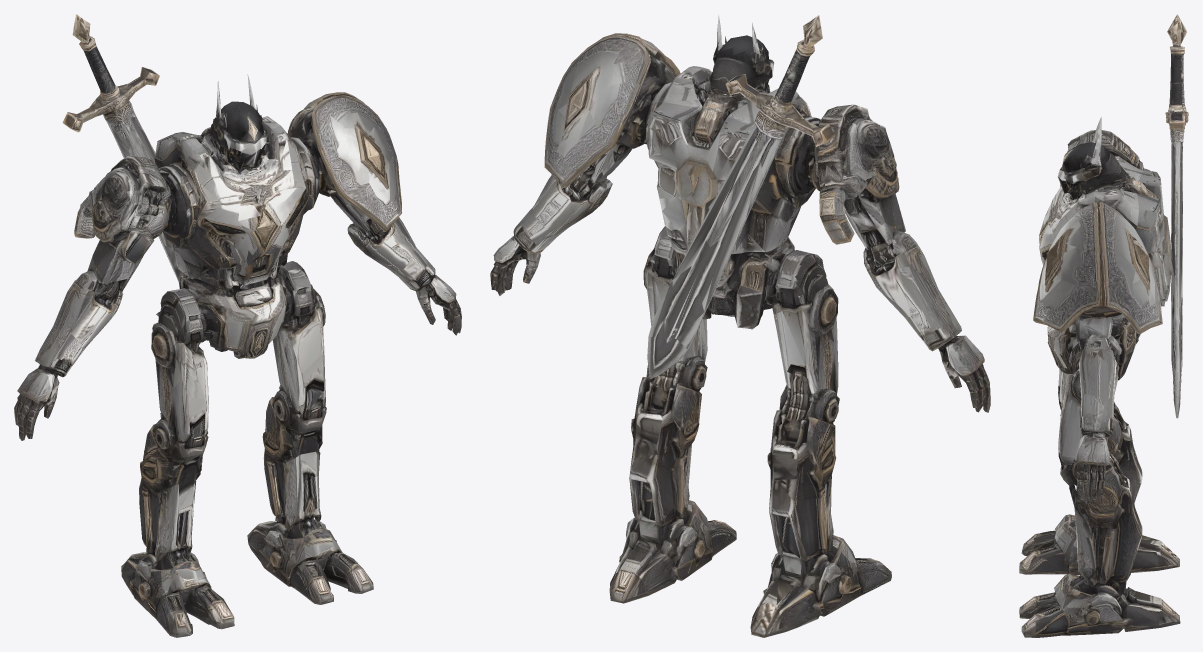
The model's file is aegis_sentinel_lod0.glb.
The picture shows the model from 3 angles, left to right: view 1: azimuth 30°, elevation 25°; view 2: azimuth 150°, elevation 25°; view 3: azimuth 270°, elevation 25°; orthographic projection. The views are drawn at different scales.
Visible parts, largest first — view 1: Mesh_0; view 2: Mesh_0; view 3: Mesh_0.
Part boxes in pixels (x1,y1,x2,y2): Mesh_0: (14,14,461,637); Mesh_0: (490,15,990,637); Mesh_0: (1019,14,1188,637).
Size of the model in its own units: 1.55 by 1.9 by 0.5544.
Materials: 1 (1 with a texture image).
